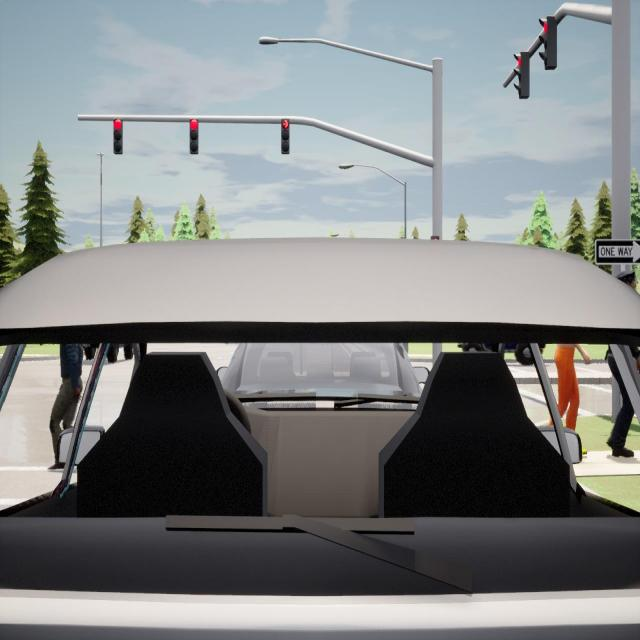Pedestrian: (602, 271, 640, 464), (45, 343, 86, 470), (552, 340, 594, 462)
Traffic_Signs: (593, 236, 640, 267)
Vehicle: (0, 241, 640, 640), (214, 342, 420, 396)
traffic_light: (538, 16, 556, 70), (514, 52, 530, 99), (281, 118, 290, 154), (190, 118, 199, 154), (114, 118, 122, 154)
